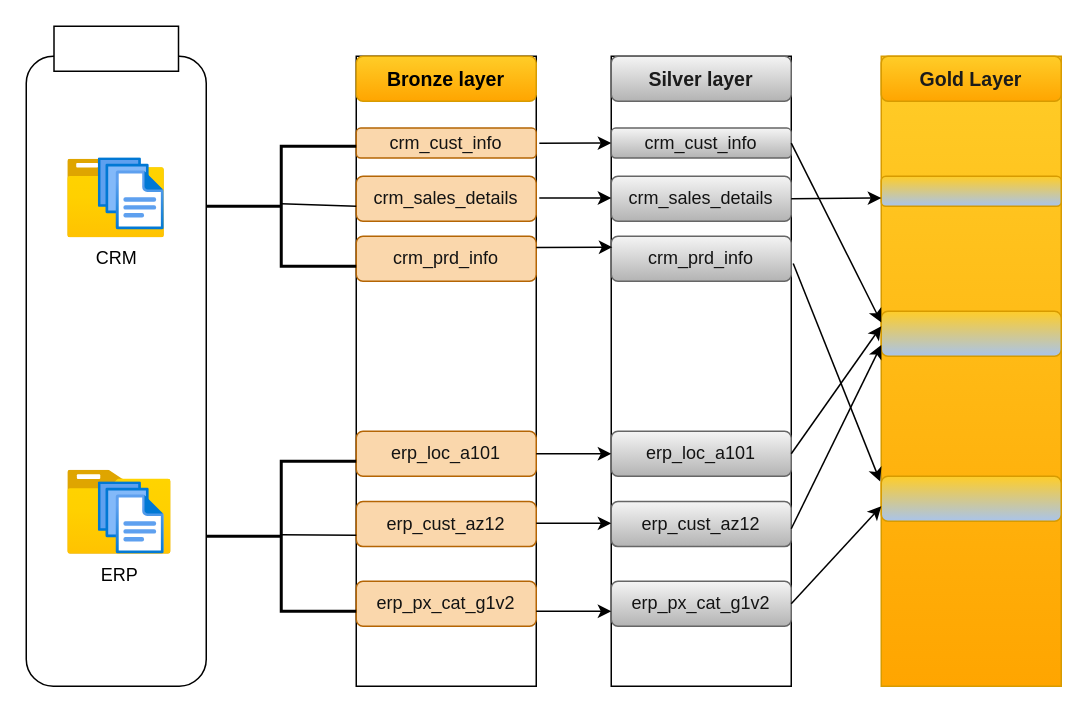
Some shapes in this 1088 by 713 pixel diagram are drawn without their labels. The shapes that lost their labels are listed below. From the top down, each one's centre as x and y in pixels, then its label:
At point (115, 48): "Sources".
At point (970, 190): "fact_sales".
At point (970, 333): "dim_customers".
At point (970, 498): "dim_procducts".
